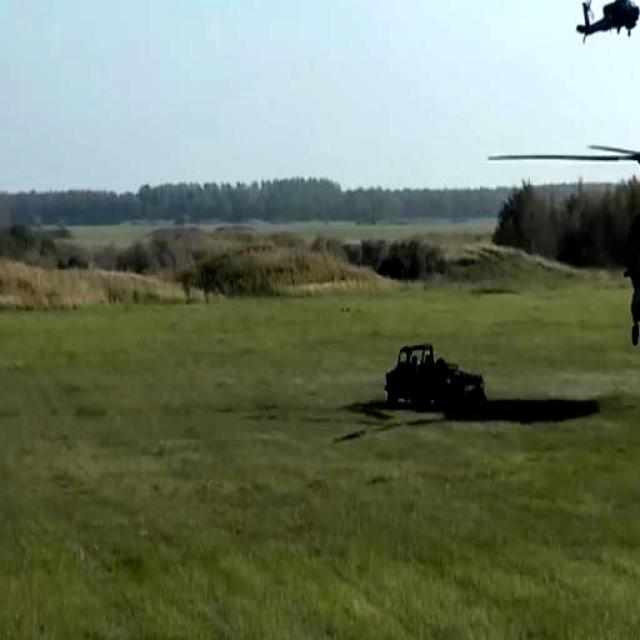drone: (485, 100, 640, 351), (576, 0, 640, 46)
